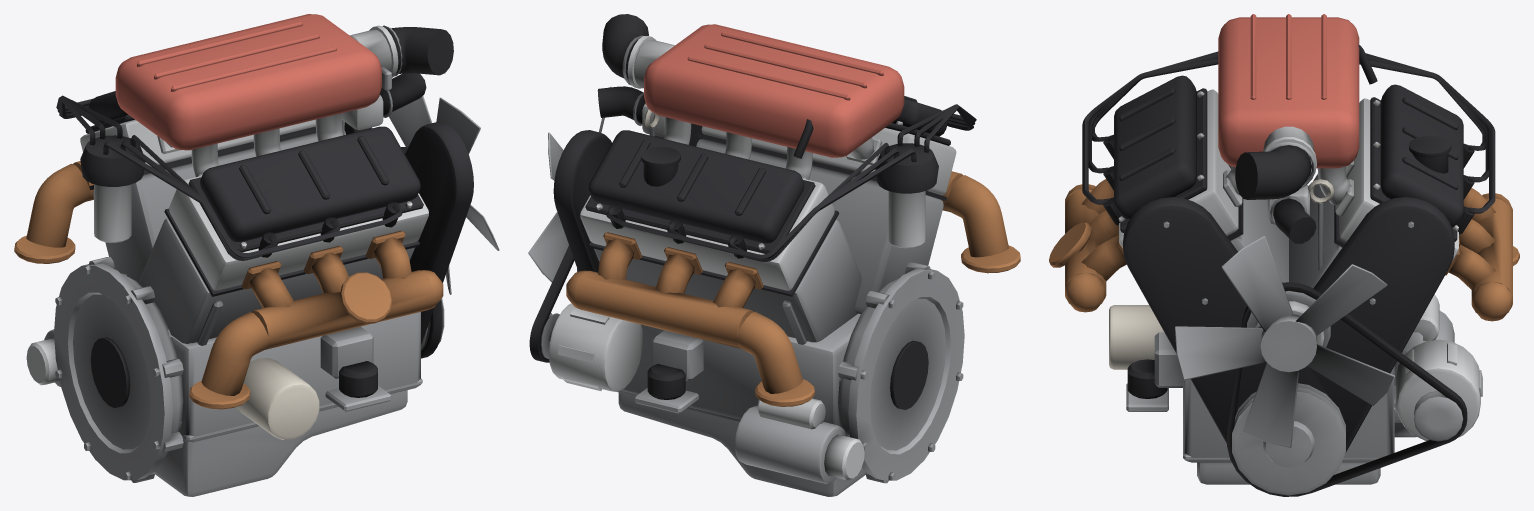
File: eng_v6.glb
3 renders of one model, left to right at view 1: azimuth 30°, elevation 25°; view 2: azimuth 150°, elevation 25°; view 3: azimuth 270°, elevation 25°, orthographic. The views are drawn at different scales.
Parts seen in each view (by area): view 1: PART; view 2: PART; view 3: PART.
Boxes of the visible parts, x1,y1,x2,y2 form: PART: [14, 14, 499, 496]; PART: [528, 14, 1020, 496]; PART: [1049, 14, 1519, 496].
Bounding box in the file's own units: 0.6166 × 0.635 × 0.6669.
